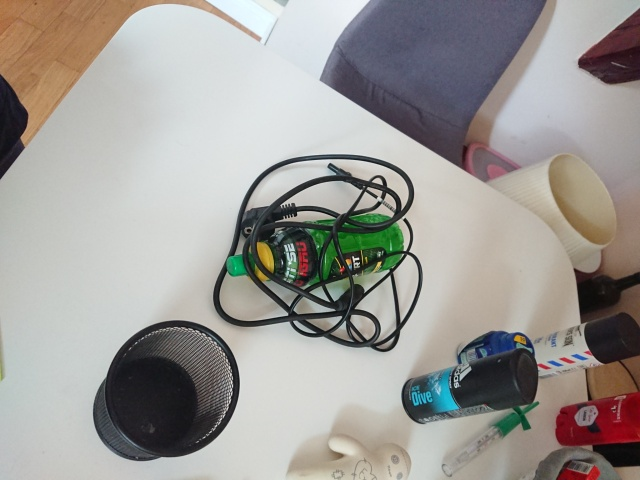Vindi Iso Sport Lemon-Grapefruit 500mL: (224, 211, 407, 289)
